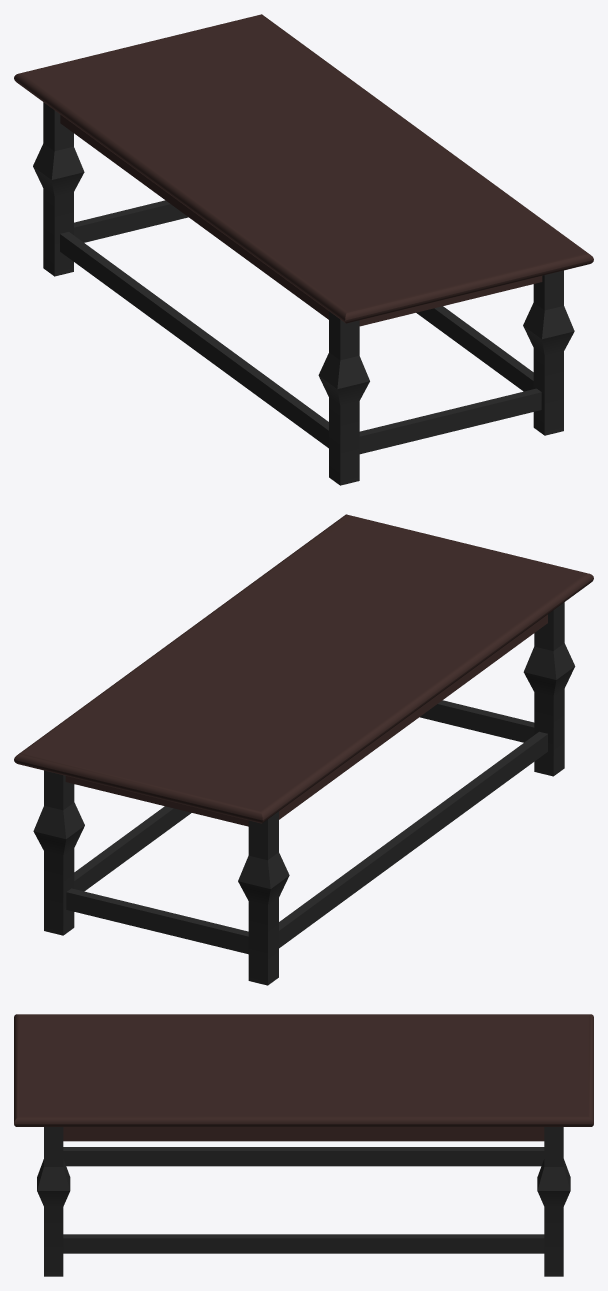
Rendered from GrandeTable_66.fbx.
3 views of the same model, one above another, from view 1: azimuth 30°, elevation 25°; view 2: azimuth 150°, elevation 25°; view 3: azimuth 270°, elevation 25° (orthographic). The views are drawn at different scales.
Parts seen in each view (by area): view 1: pCube97, pCube99, polySurface27, polySurface24, polySurface26, pCube101, pCube98, pCube100; view 2: pCube97, pCube99, polySurface26, polySurface25, polySurface27, pCube100, pCube98, pCube101; view 3: pCube97, pCube98, pCube99, polySurface25, polySurface24.
Part boxes in pixels (x1=…): pCube97: x1=14, y1=14, x2=593, y2=326; pCube99: x1=60, y1=232, x2=328, y2=448; polySurface27: x1=318, y1=311, x2=369, y2=485; polySurface24: x1=523, y1=270, x2=574, y2=435; polySurface26: x1=33, y1=102, x2=84, y2=276; pCube101: x1=359, y1=388, x2=541, y2=454; pCube98: x1=416, y1=306, x2=533, y2=391; pCube100: x1=74, y1=200, x2=188, y2=242; pCube97: x1=14, y1=514, x2=593, y2=826; pCube99: x1=279, y1=731, x2=547, y2=948; polySurface26: x1=238, y1=811, x2=289, y2=985; polySurface25: x1=33, y1=770, x2=84, y2=935; polySurface27: x1=523, y1=602, x2=575, y2=776; pCube100: x1=66, y1=888, x2=248, y2=954; pCube98: x1=74, y1=806, x2=191, y2=891; pCube101: x1=420, y1=700, x2=534, y2=742; pCube97: x1=14, y1=1014, x2=593, y2=1141; pCube98: x1=63, y1=1234, x2=544, y2=1253; pCube99: x1=63, y1=1147, x2=544, y2=1166; polySurface25: x1=537, y1=1127, x2=570, y2=1276; polySurface24: x1=37, y1=1127, x2=70, y2=1276.
Size of the model in its own units: 56.23 by 40.23 by 130.
